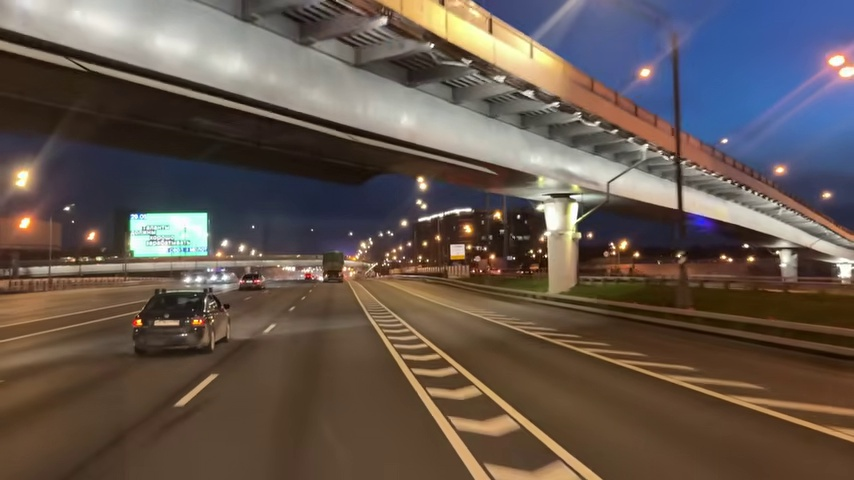acesa: (9, 165, 34, 192), (825, 52, 851, 73), (637, 65, 653, 80), (772, 164, 788, 178)
